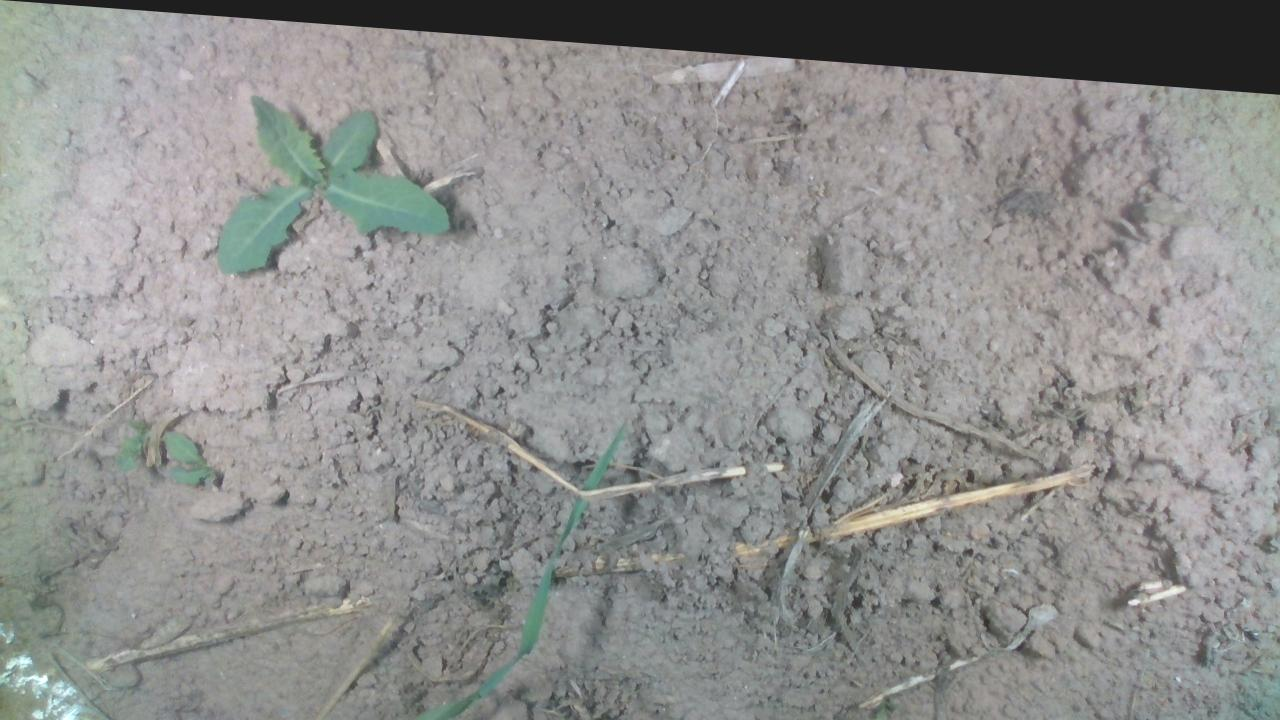weed: (214, 87, 453, 284)
